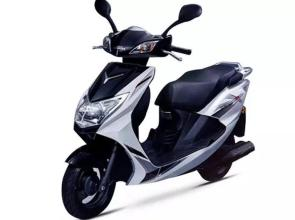motor: (53, 21, 252, 212)
